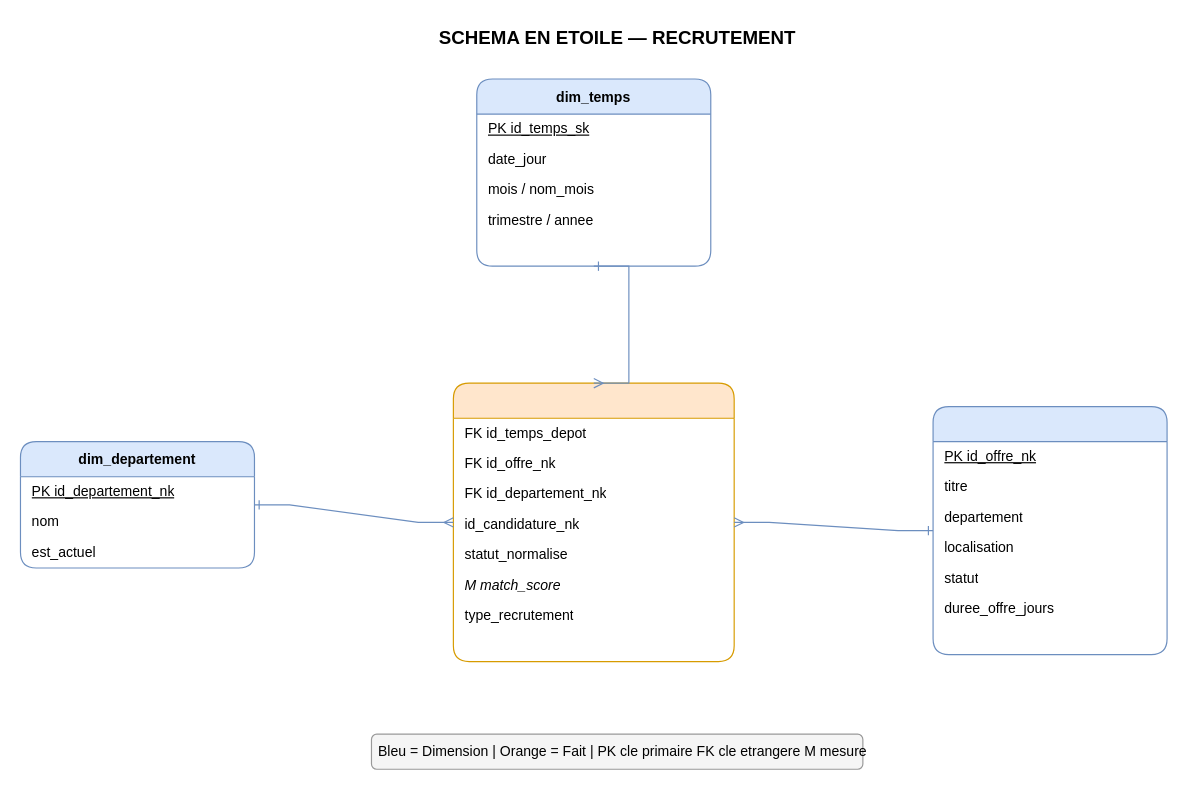
This 1188x790 diagram has some shape labels left out. Here are the shapes that lost their labels. From the top down, the box of each, then its label:
(452, 382, 734, 662): fait_recrutement
(932, 405, 1167, 655): dim_offre
